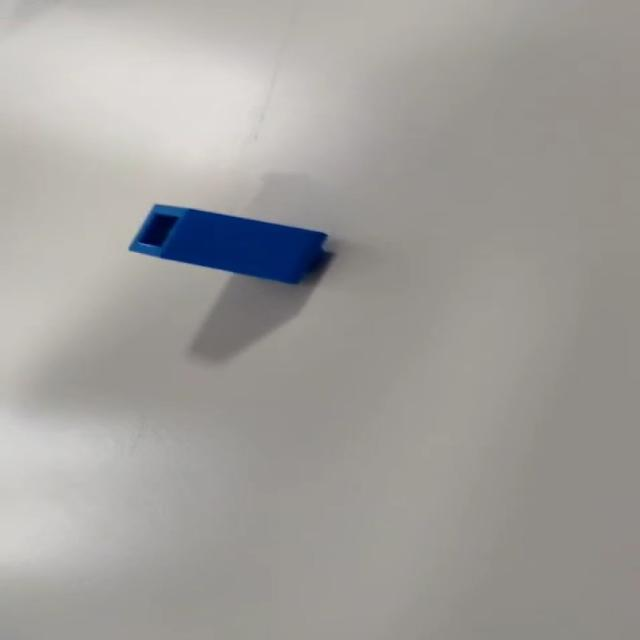X1x2x1: (116, 200, 340, 288)
